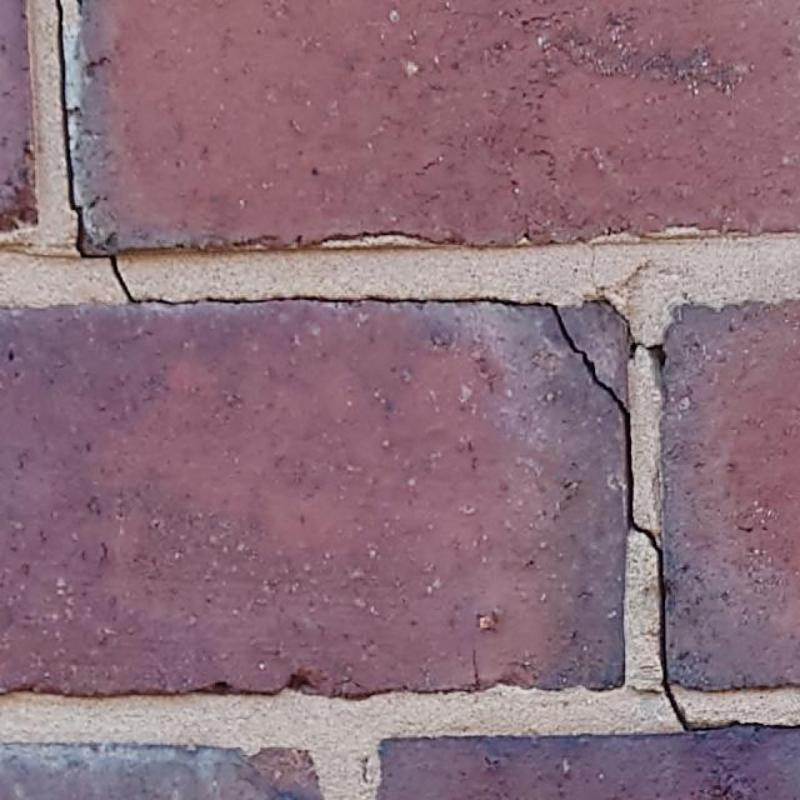pothole: (207, 294, 689, 733), (56, 0, 199, 306), (629, 321, 667, 373), (691, 721, 799, 730)
